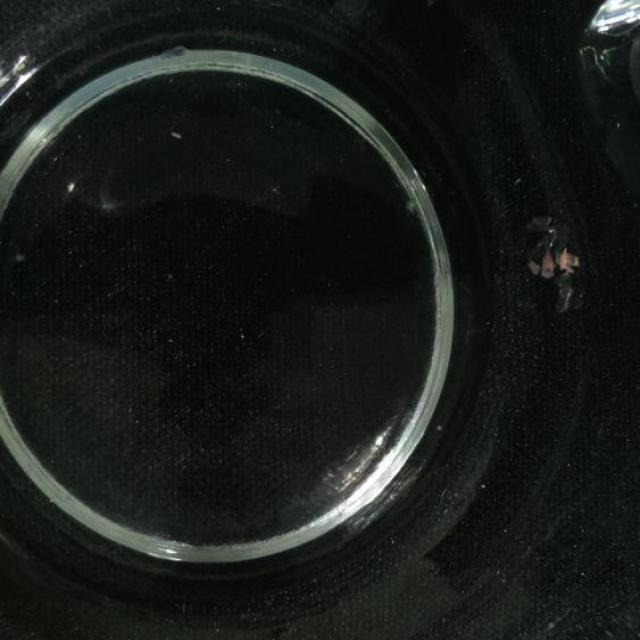fiber: (521, 229, 590, 306), (428, 0, 452, 6)
